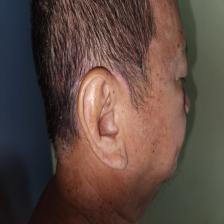Psoriasis vulgaris: (54, 50, 82, 88), (115, 56, 146, 90)
